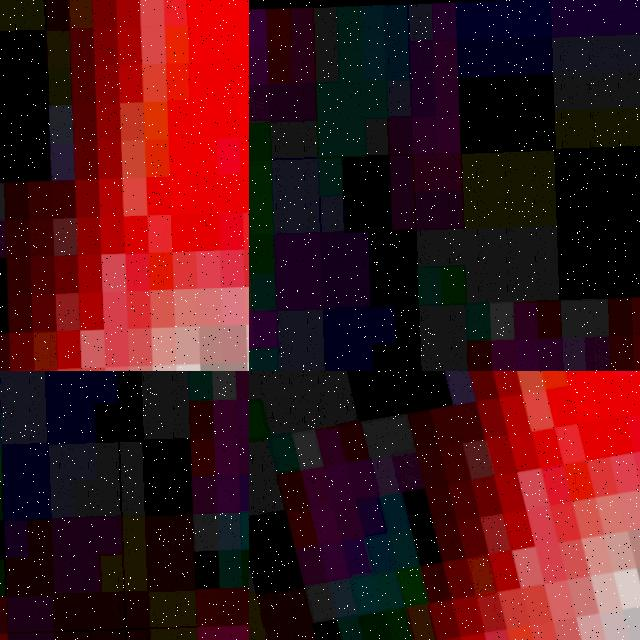drone: (249, 371, 640, 640)
